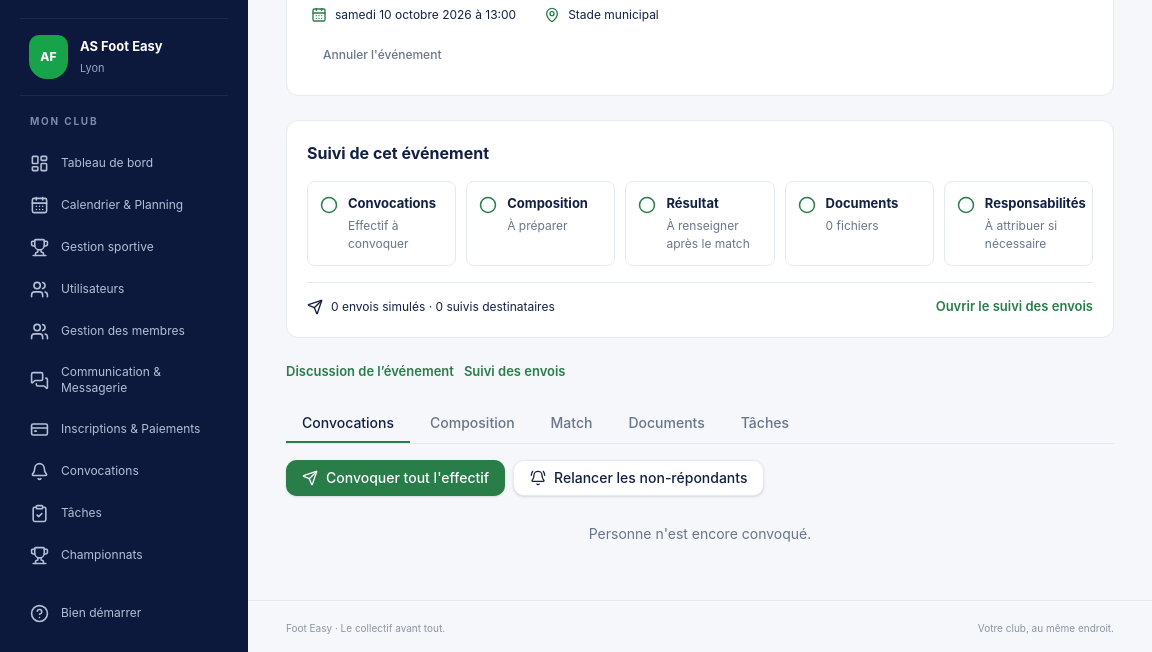
Test: EventPage › places a player on the pitch and saves the lineup
(page scrolled)
Click the tab "Composition" at (472, 424), box [414,405,530,443]
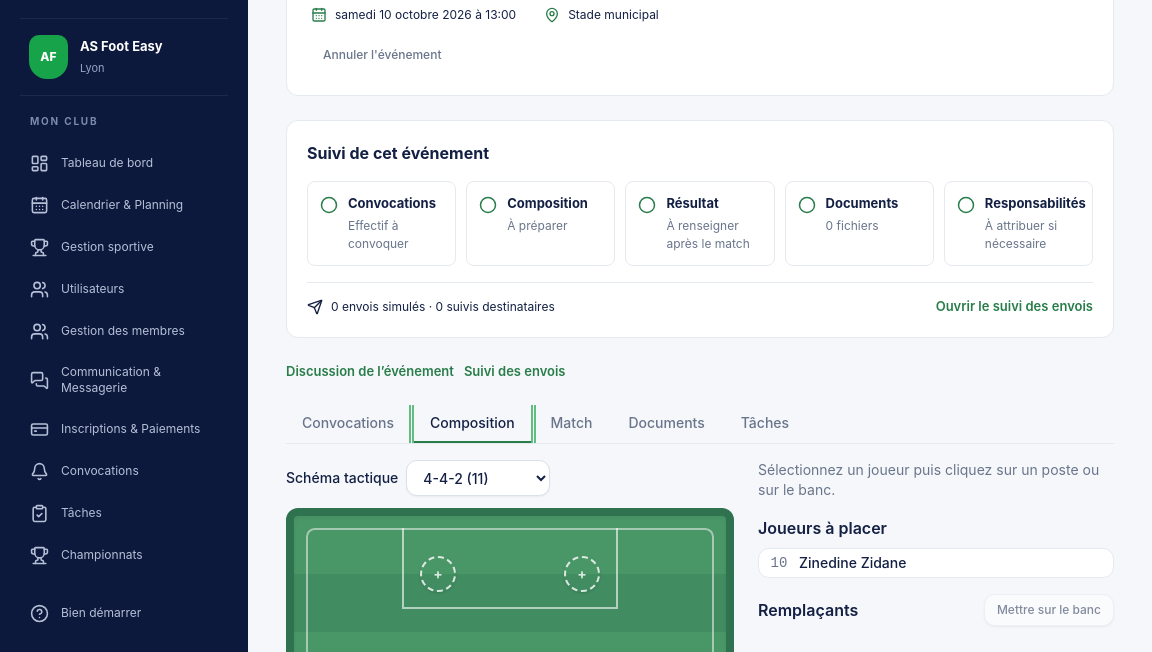
Click the button "10 Zinedine Zidane" at (853, 563), box [767,553,1105,573]
(page scrolled)
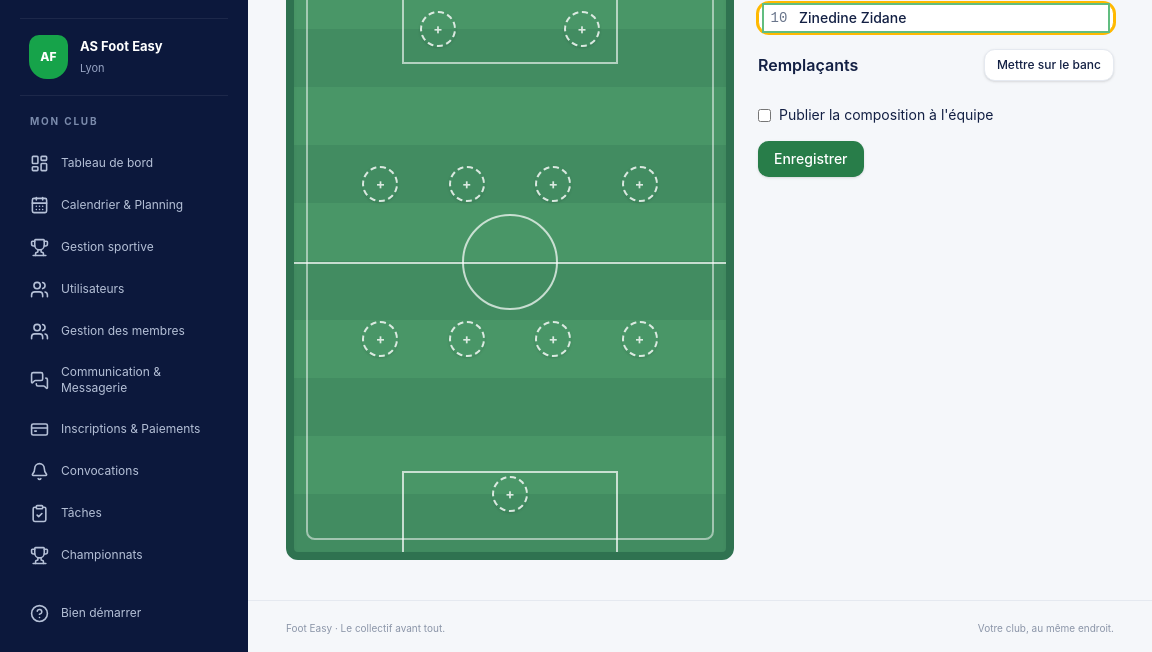
Click the button named "Poste 1 libre" at (510, 494), box [470,476,550,512]
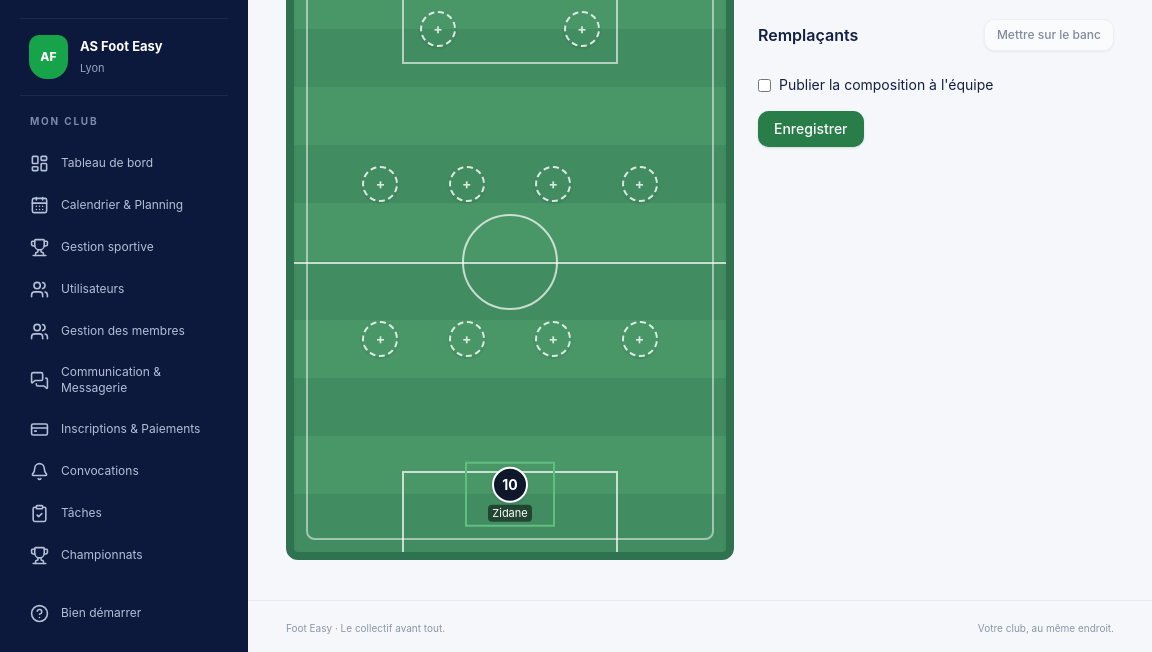
Click the button "Enregistrer" at (811, 129), box [758,111,864,147]
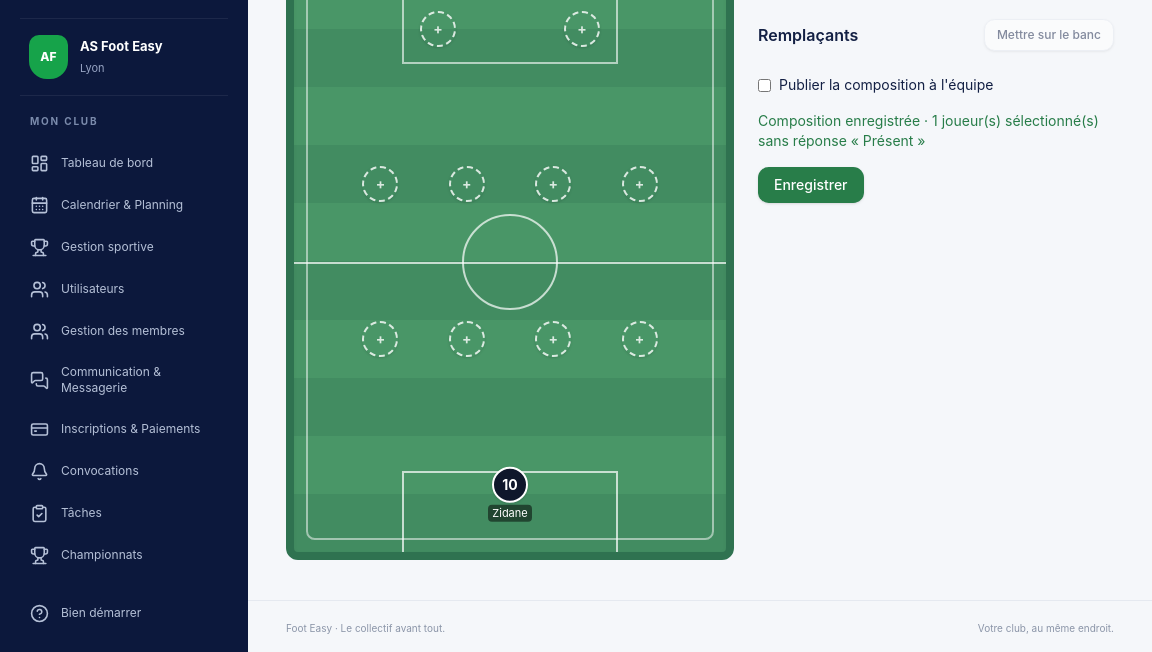
Expected: the message shows "Composition enregistrée", [758,112,920,129]
